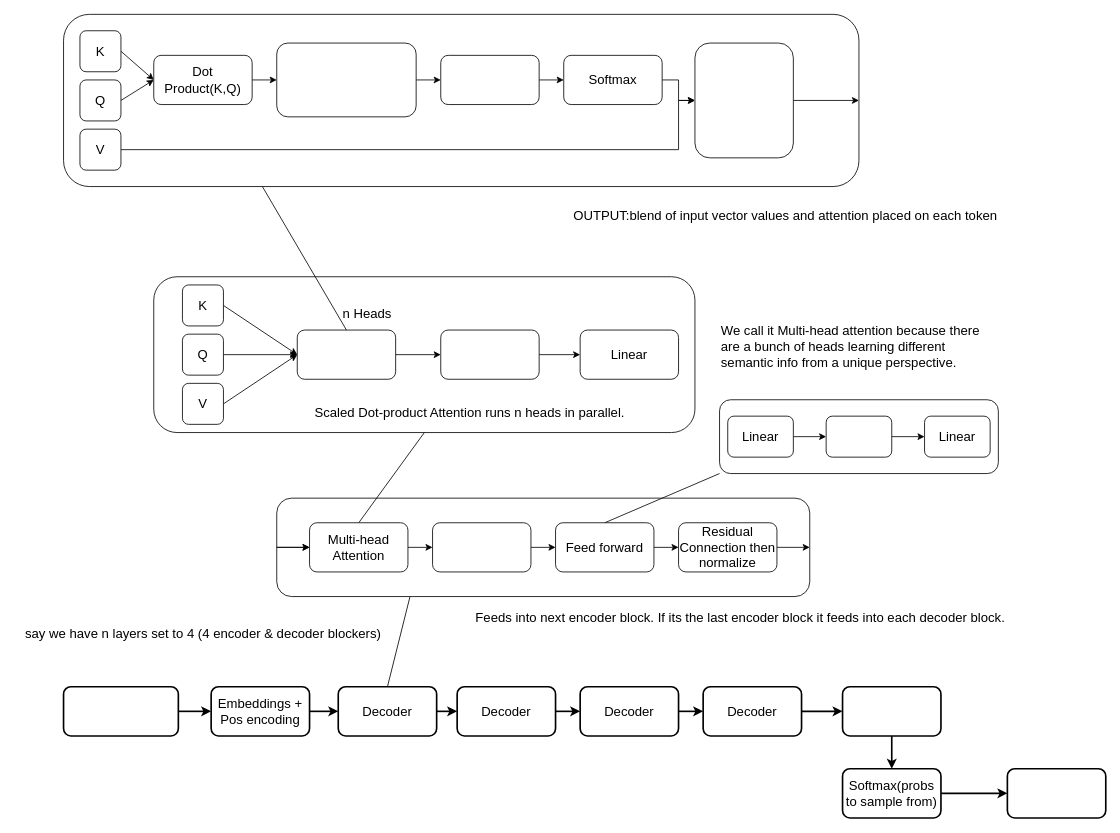
Image size: 1120x833. Some labels were removed from this diagram. Here are the shapes that lost their labels. From the top down, the box of each, then its label:
(276, 42, 416, 117): Scaling by 1/Sqrt(length of a row in the keys or queries matrix OR dk)
(440, 55, 539, 105): torch.tril masking (sometimes)
(694, 42, 793, 158): Matrix Multiply
(296, 329, 396, 379): Scaled Dot-product attention
(440, 329, 539, 379): Concatenate results
(825, 415, 892, 457): ReLU
(432, 522, 531, 572): Residual Connection(add) then normalize
(62, 686, 179, 736): Tokenized inputs
(841, 686, 941, 736): nn.Linear
(1006, 768, 1106, 818): Probs sampling + generation
